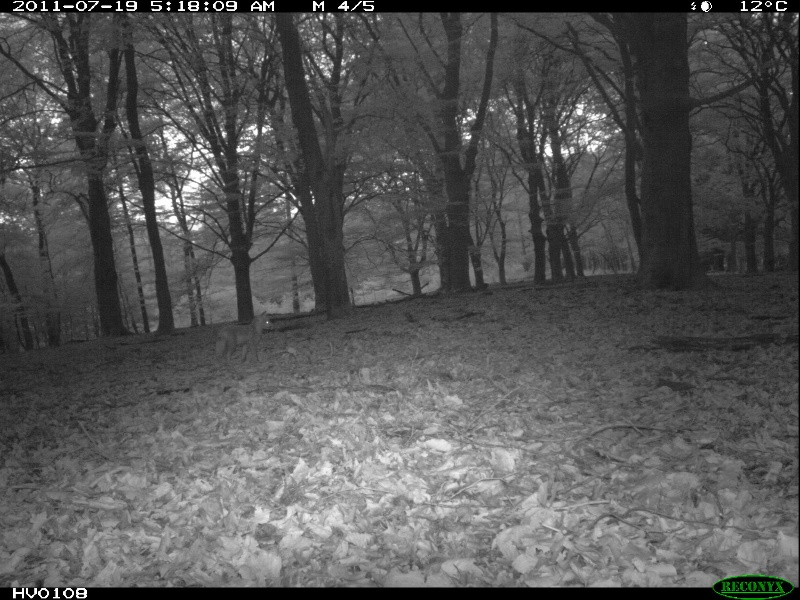fox: (211, 313, 274, 363)
